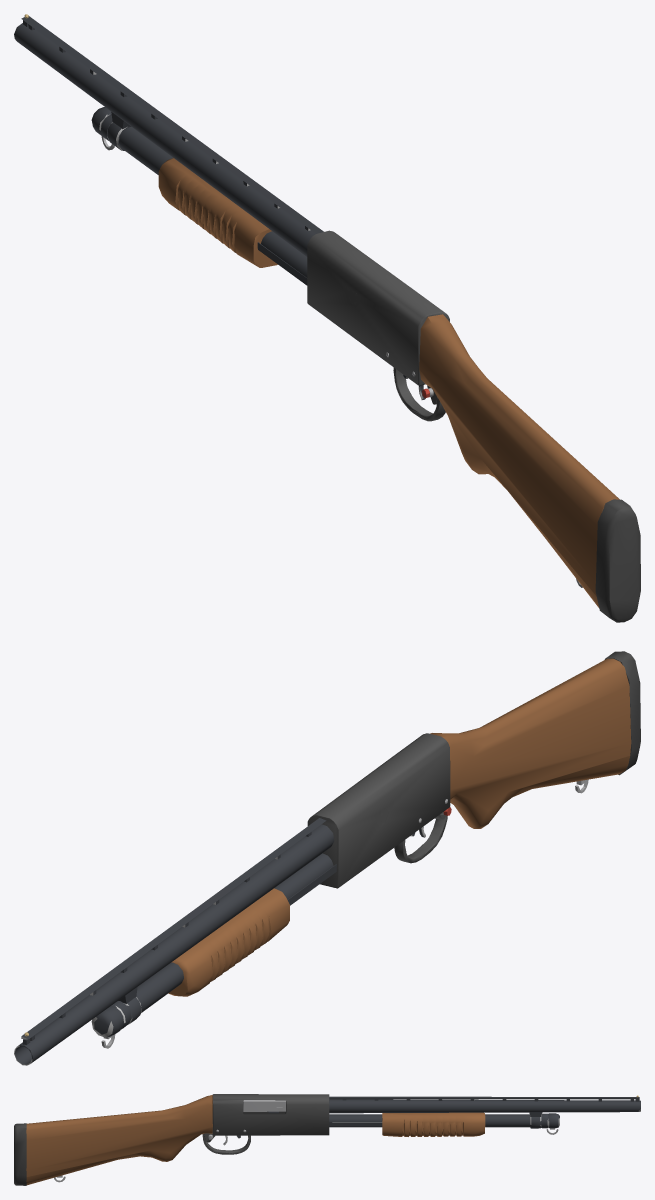
3 views of the same model, one above another, from view 1: azimuth 30°, elevation 25°; view 2: azimuth 150°, elevation 25°; view 3: azimuth 270°, elevation 25° (orthographic). The views are drawn at different scales.
Parts seen in each view (by area): view 1: Wood, Blued, Alloy, Rubber; view 2: Wood, Blued, Alloy, Rubber; view 3: Wood, Blued, Alloy, Rubber, Steel, Worn, Black.
Boxes of the visible parts, x1,y1,x2,y2 form: Wood: (158, 158, 619, 607); Blued: (14, 16, 425, 399); Alloy: (307, 230, 449, 421); Rubber: (595, 499, 640, 622); Wood: (168, 658, 631, 996); Blued: (15, 818, 424, 1064); Alloy: (307, 733, 450, 888); Rubber: (604, 651, 640, 775); Wood: (26, 1095, 485, 1185); Blued: (223, 1096, 640, 1143); Alloy: (202, 1094, 329, 1154); Rubber: (14, 1123, 26, 1185); Steel: (54, 1100, 558, 1182); Worn: (223, 1099, 640, 1145); Black: (243, 1100, 286, 1114).
Size of the model in its own units: 0.0402 by 0.1767 by 1.13.
